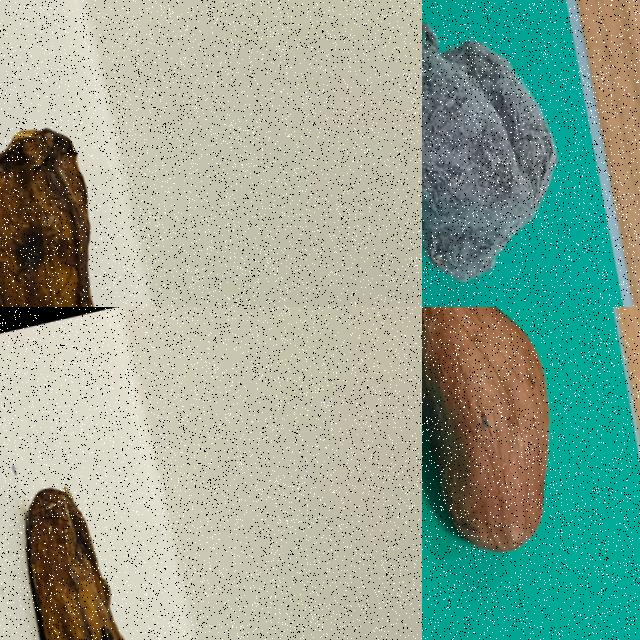Agglomerated_cocoabeans: (422, 0, 621, 306)
Fine_cocoabeans: (422, 307, 623, 635)
Flat_cocoabeans: (0, 419, 252, 639), (0, 102, 174, 306)
